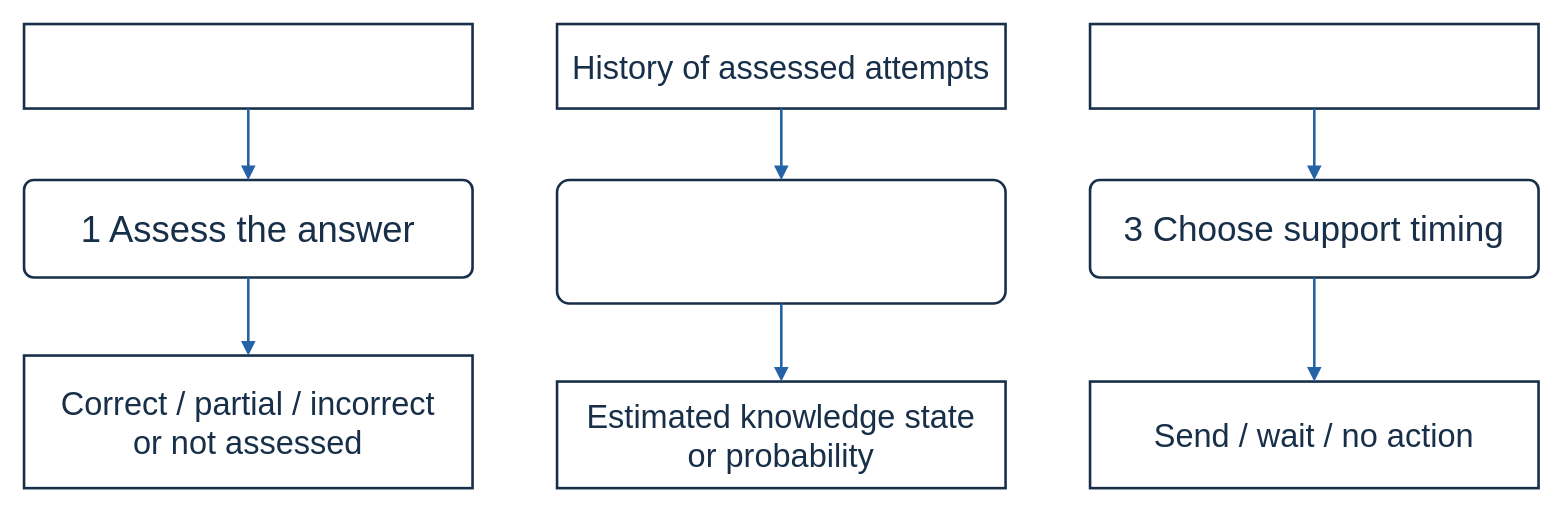
The diagram is 1561 pixels wide and 511 high, and some of its shapes have lost their labels. The shapes that lost their labels are listed below. From the top down, each one's centre as x and y in pixels, then its label:
At (x=247, y=65): "Reply + lecture evidence".
At (x=1313, y=65): "Estimate + time + permission".
At (x=780, y=241): "2 Estimate knowledge or next-answer correctness".
